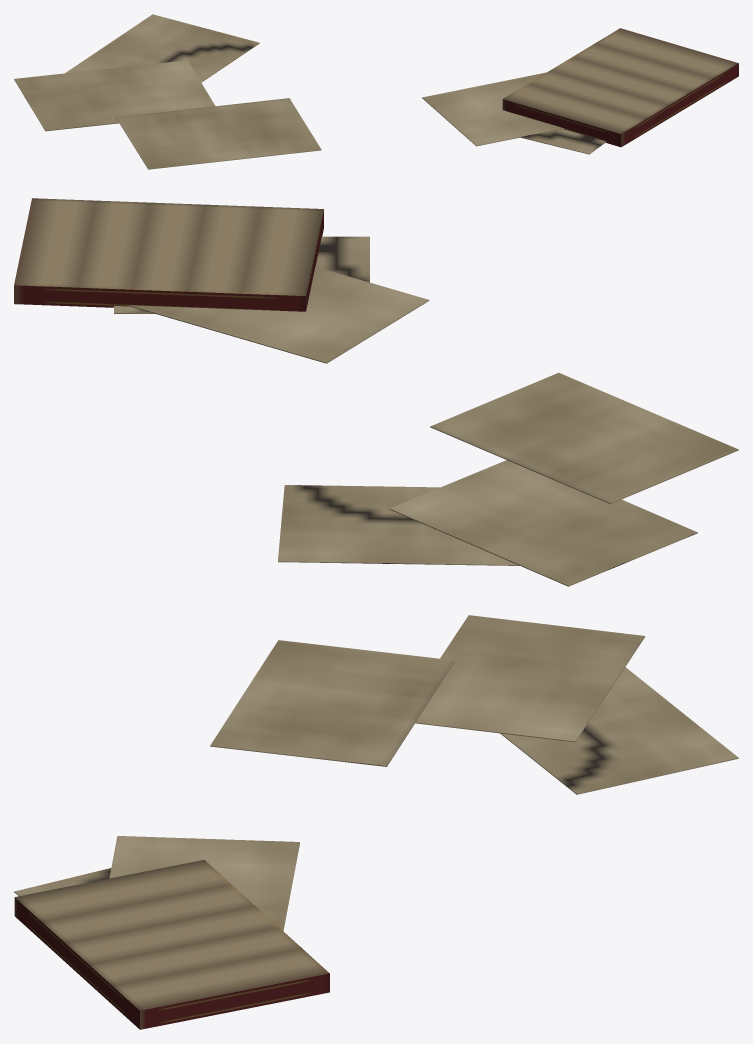
Rendered from Atmos_Paper_Scatter.fbx.
3 views of the same model, one above another, from view 1: azimuth 30°, elevation 25°; view 2: azimuth 150°, elevation 25°; view 3: azimuth 270°, elevation 25° (orthographic). The views are drawn at different scales.
Parts seen in each view (by area): view 1: Atmos_Paper_Scatter; view 2: Atmos_Paper_Scatter; view 3: Atmos_Paper_Scatter.
Boxes of the visible parts, bbox=[...] form: Atmos_Paper_Scatter: bbox=[14, 14, 738, 169]; Atmos_Paper_Scatter: bbox=[14, 198, 738, 586]; Atmos_Paper_Scatter: bbox=[14, 615, 738, 1029].
Bounding box in the file's own units: 111 × 2.4 × 83.04.
